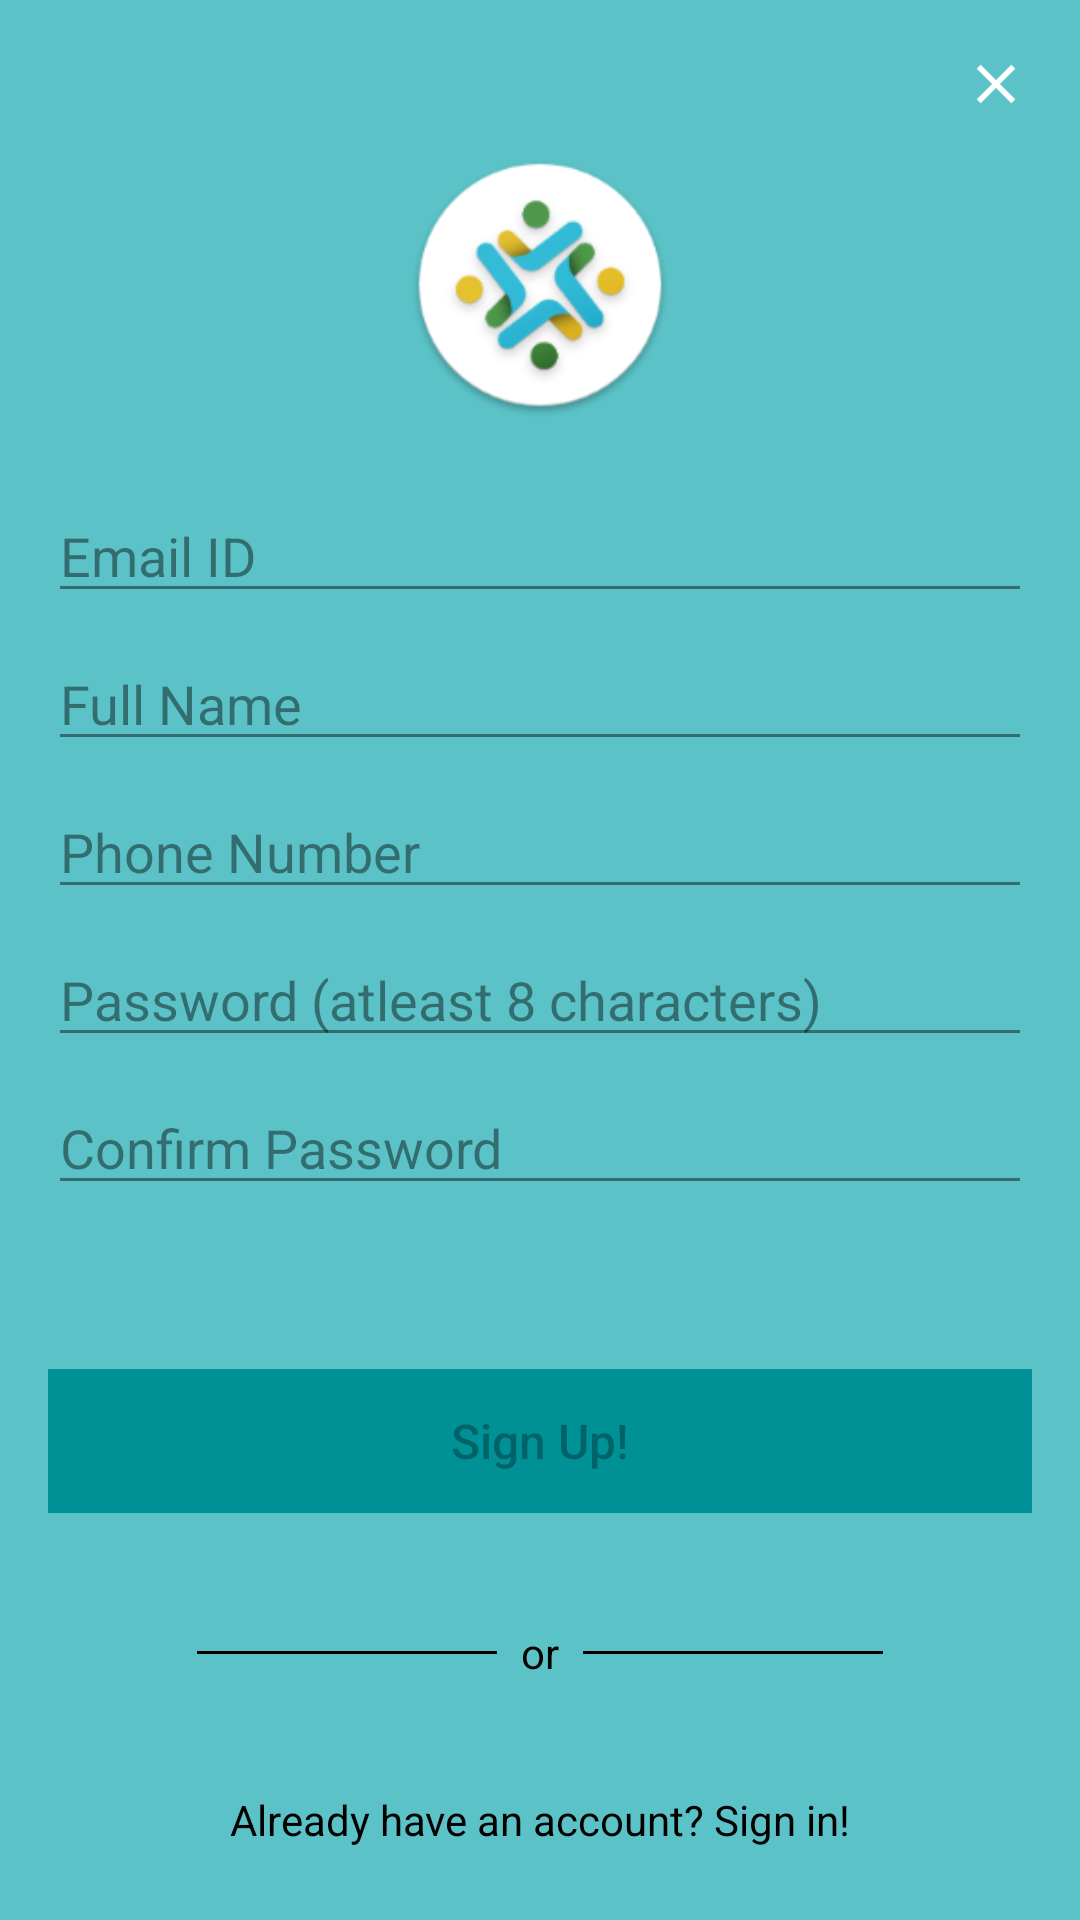

Icons on this 1080 x 1920 Android screen, each with its box as [left=x1, top=y1, right=x2, bottom=y2]:
close cross: [left=976, top=64, right=1016, bottom=104]
